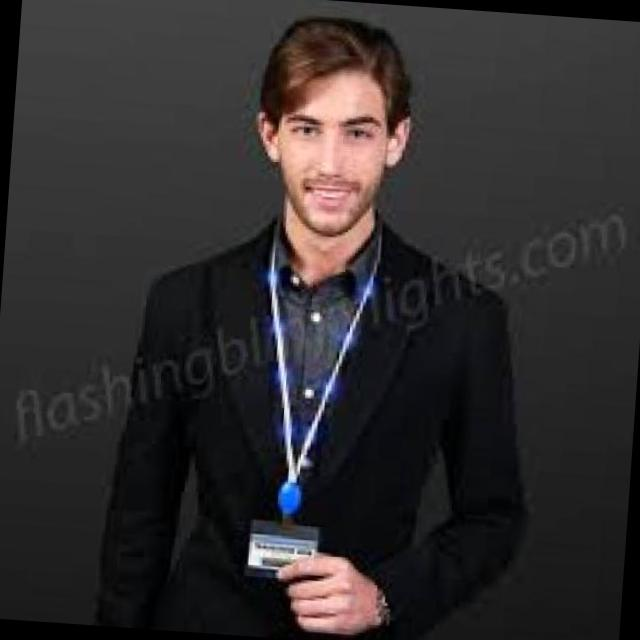id_card: (240, 225, 383, 574)
